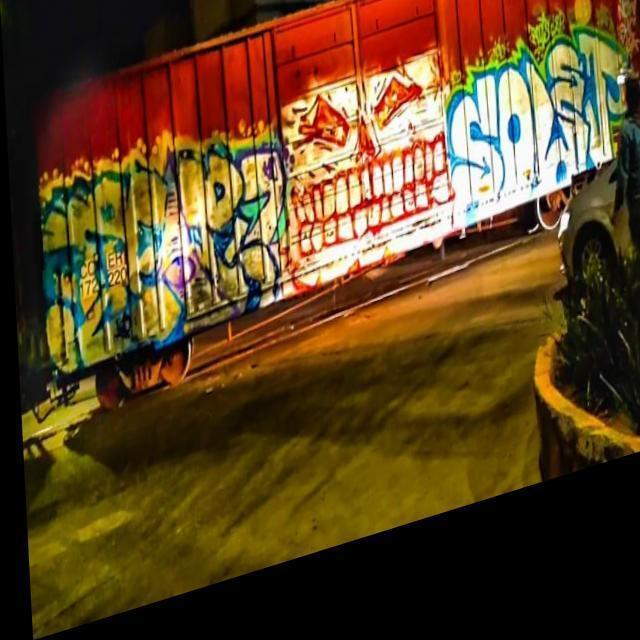nonspitting: (36, 136, 282, 369), (285, 50, 453, 283), (452, 26, 624, 220)
